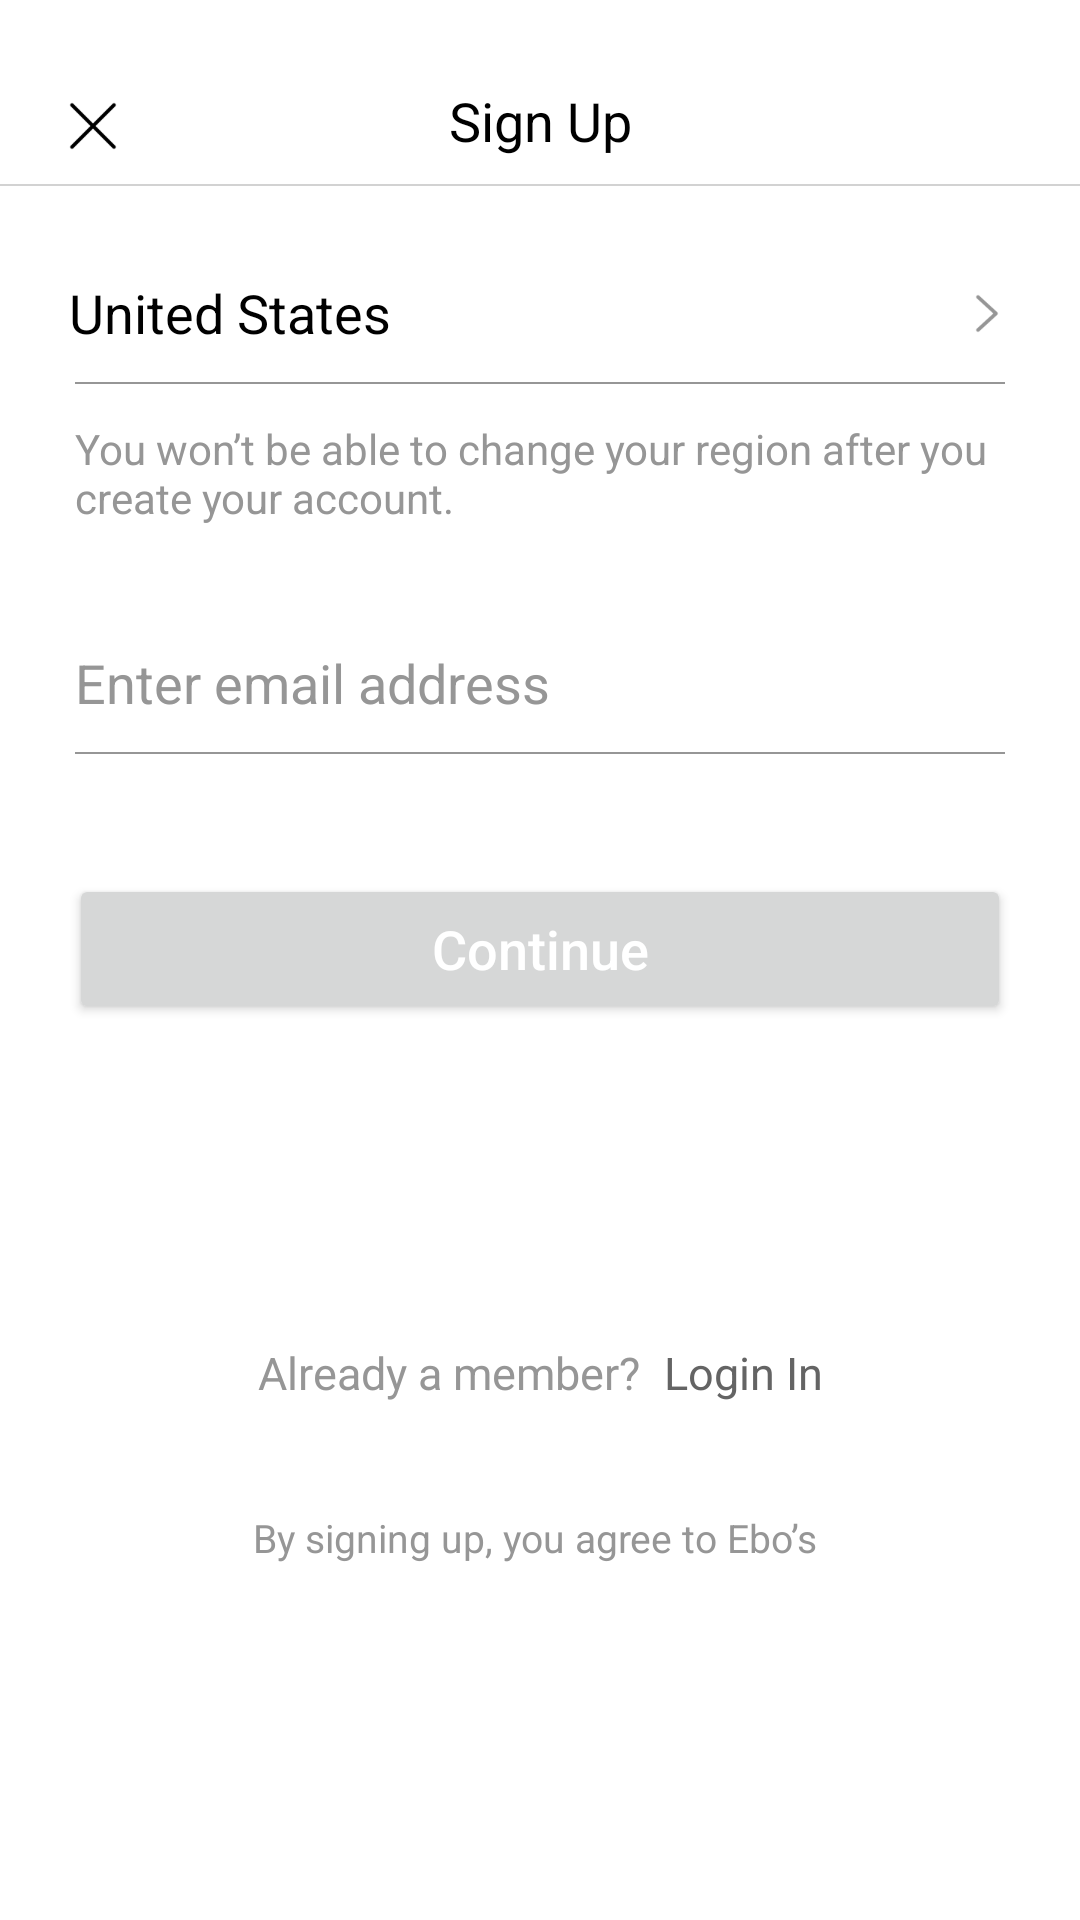

Named icons in this screenshot (1080px×1920px) and their centers, (x,y):
arrow right: (987,313)
close: (93,126)
